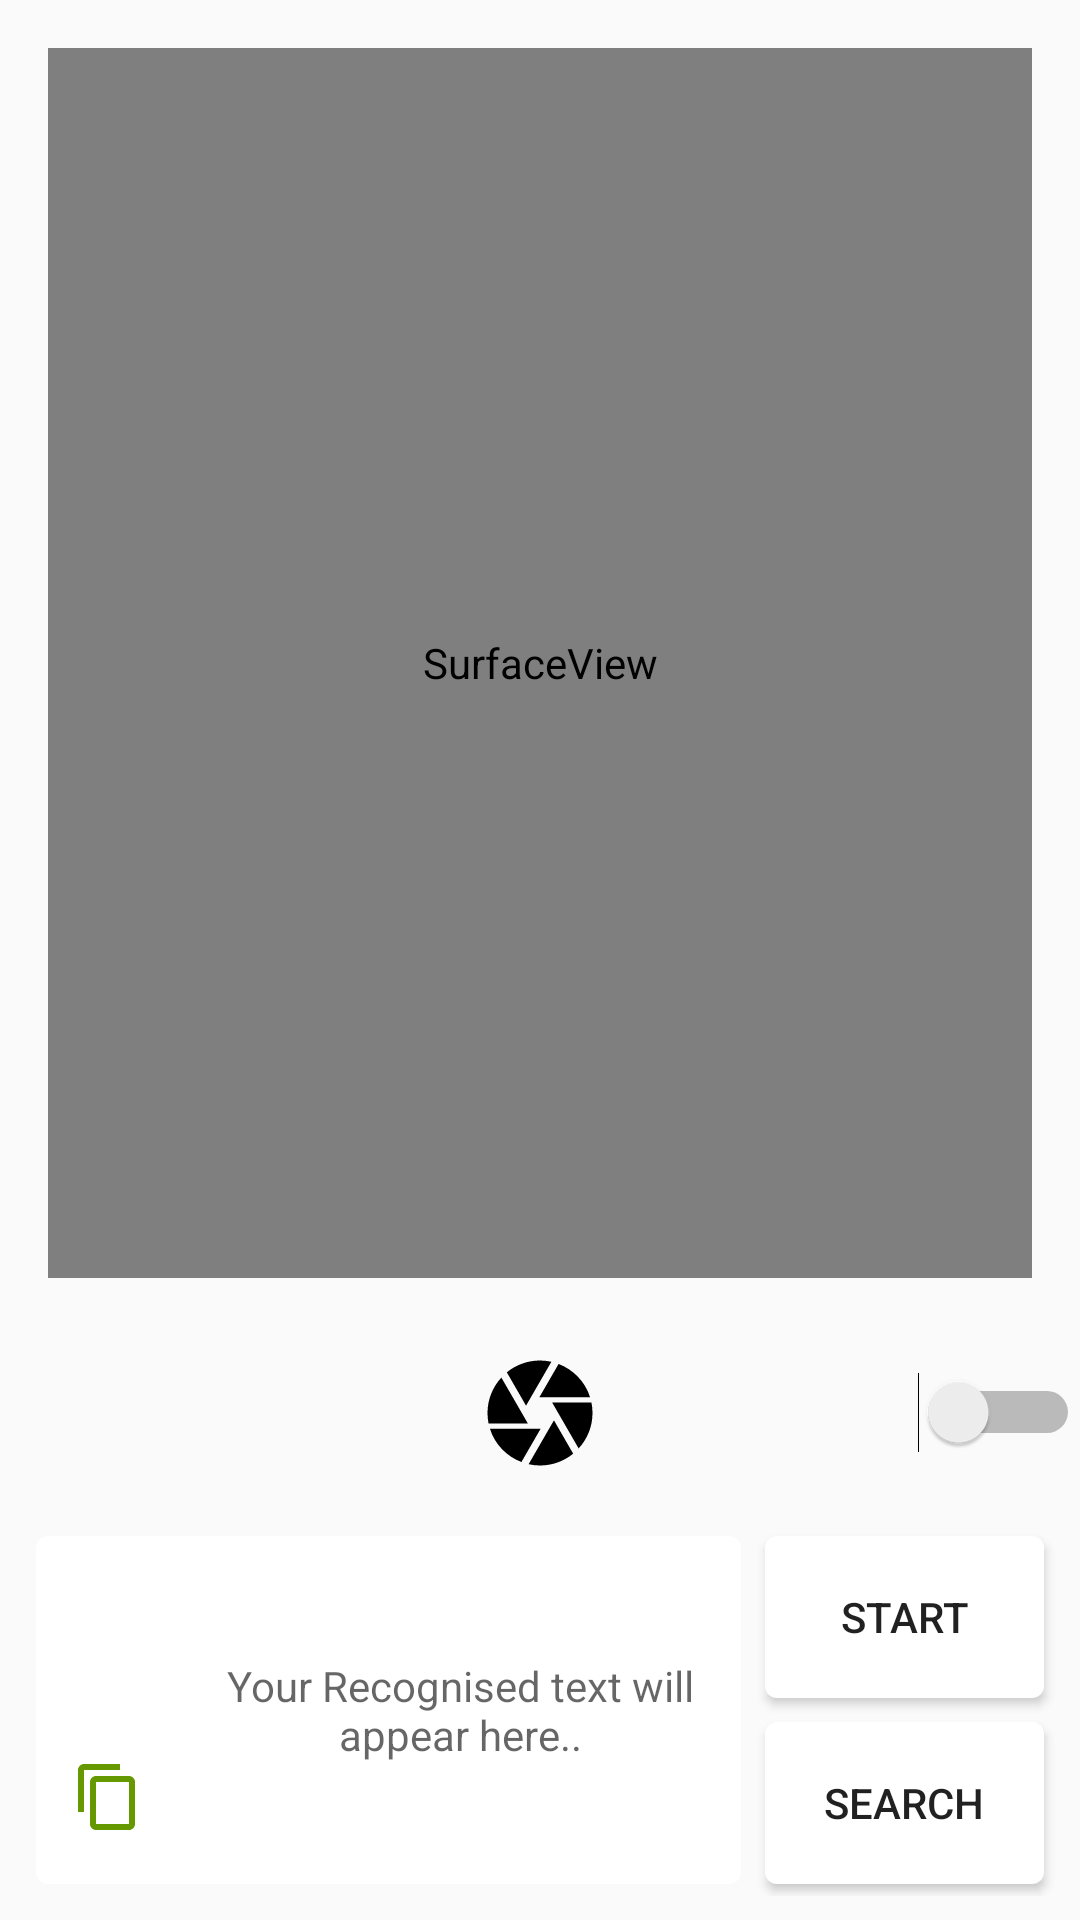

Locate icon controls on the screen. Image size 1080 x 1920, boxes as {"left": x1, "top": y1, "right": x2, "bottom": y2}.
camera: {"left": 487, "top": 1360, "right": 593, "bottom": 1466}
